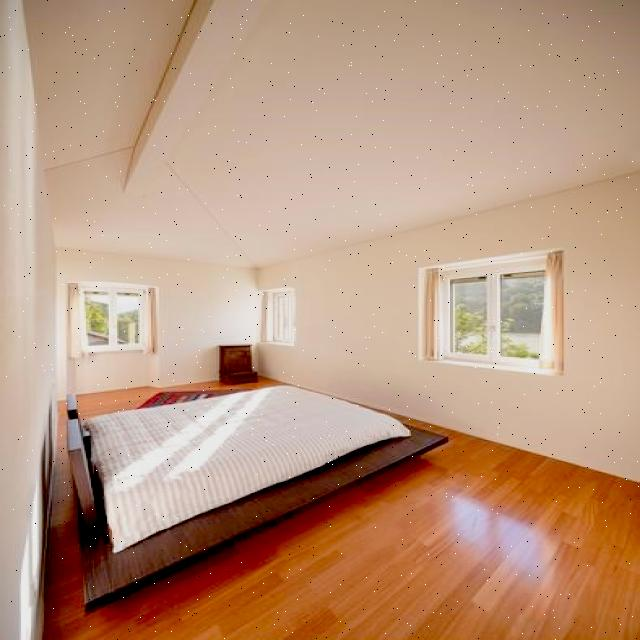bed: (68, 384, 425, 554)
